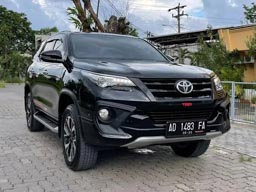plat: (168, 120, 206, 132)
